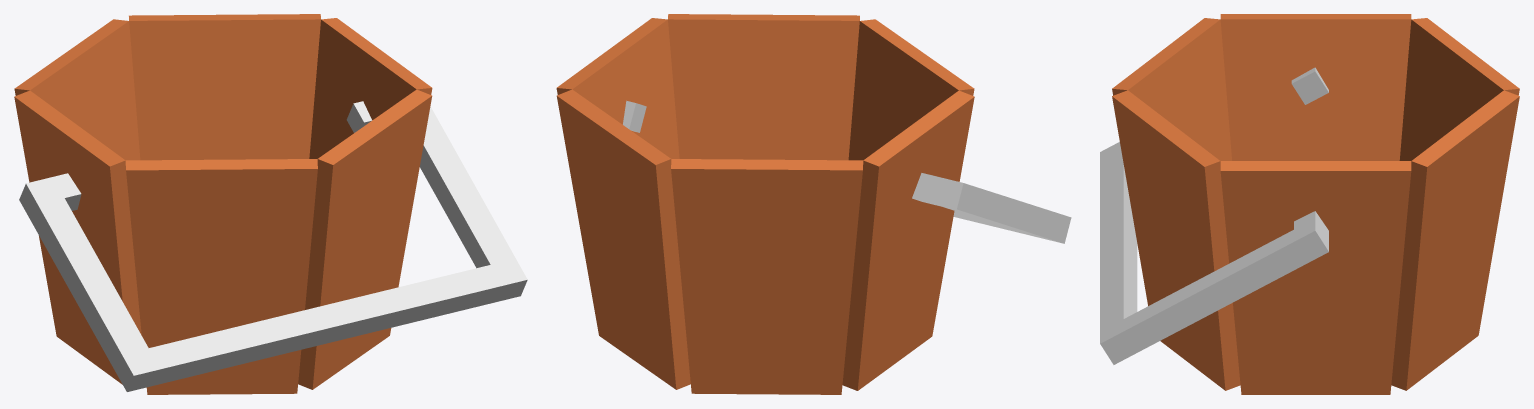
Rendered from bucket2.fbx.
The picture shows the model from 3 angles, left to right: view 1: azimuth 30°, elevation 25°; view 2: azimuth 150°, elevation 25°; view 3: azimuth 270°, elevation 25°; orthographic projection.
Parts seen in each view (by area): view 1: container, handle; view 2: container, handle; view 3: container, handle.
Part boxes in pixels (left/top/right/bottom): container: left=14, top=14, right=432, bottom=394; handle: left=19, top=101, right=527, bottom=391; container: left=556, top=14, right=974, bottom=394; handle: left=623, top=100, right=1071, bottom=243; container: left=1112, top=14, right=1519, bottom=394; handle: left=1100, top=67, right=1328, bottom=364.
Bounding box in the file's own units: 309 × 182 × 286.
